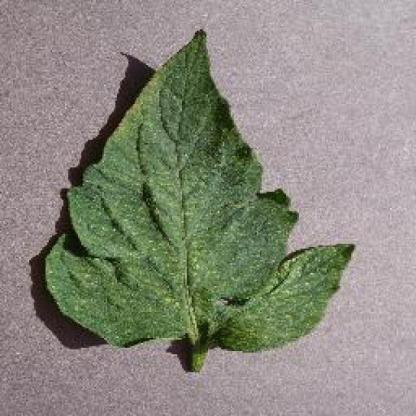Strawberry_Blossom_Blight: (124, 239, 172, 288), (274, 254, 330, 295), (186, 164, 240, 206), (147, 109, 185, 157)
